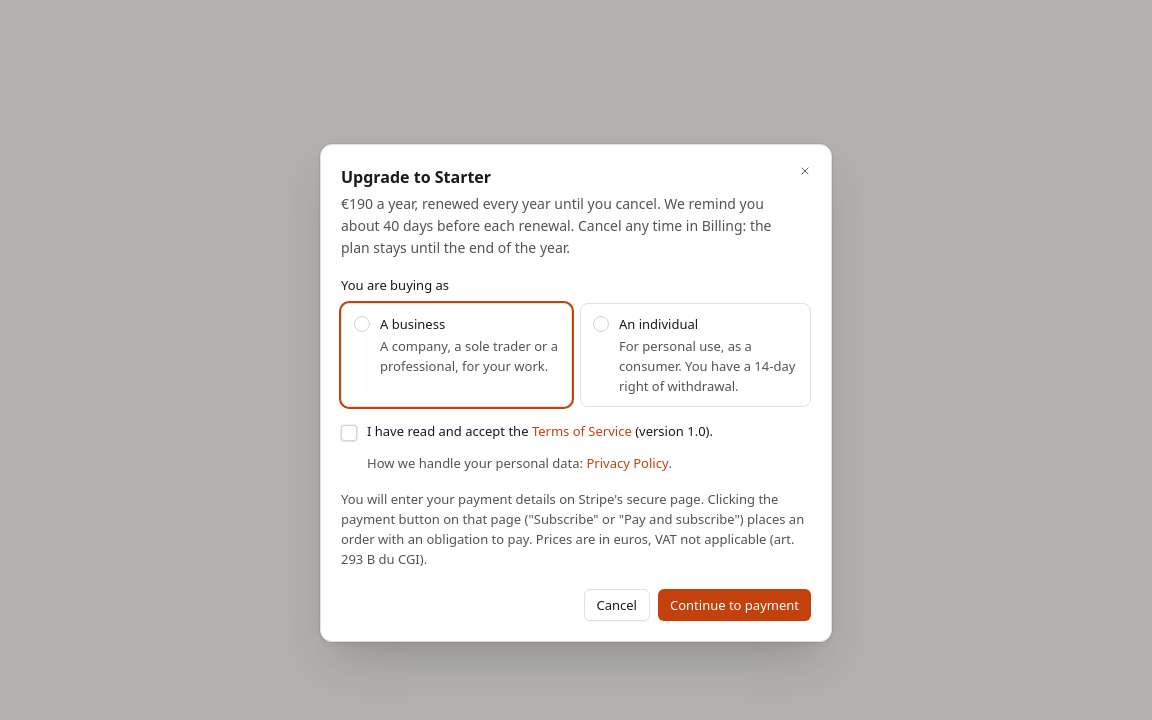
it: CheckoutDialog, consumers too (consumer sales on) › preselects nobody and asks for a choice
The image size is (1152, 720).
Expected: the radio button that starts with "A business" is not checked, [341,303,572,407]
Expected: the radio button that starts with "An individual" is not checked, [580,303,811,407]
Click the checkbox named "I have read and accept the". click: (349, 433)
box: [341,425,357,441]
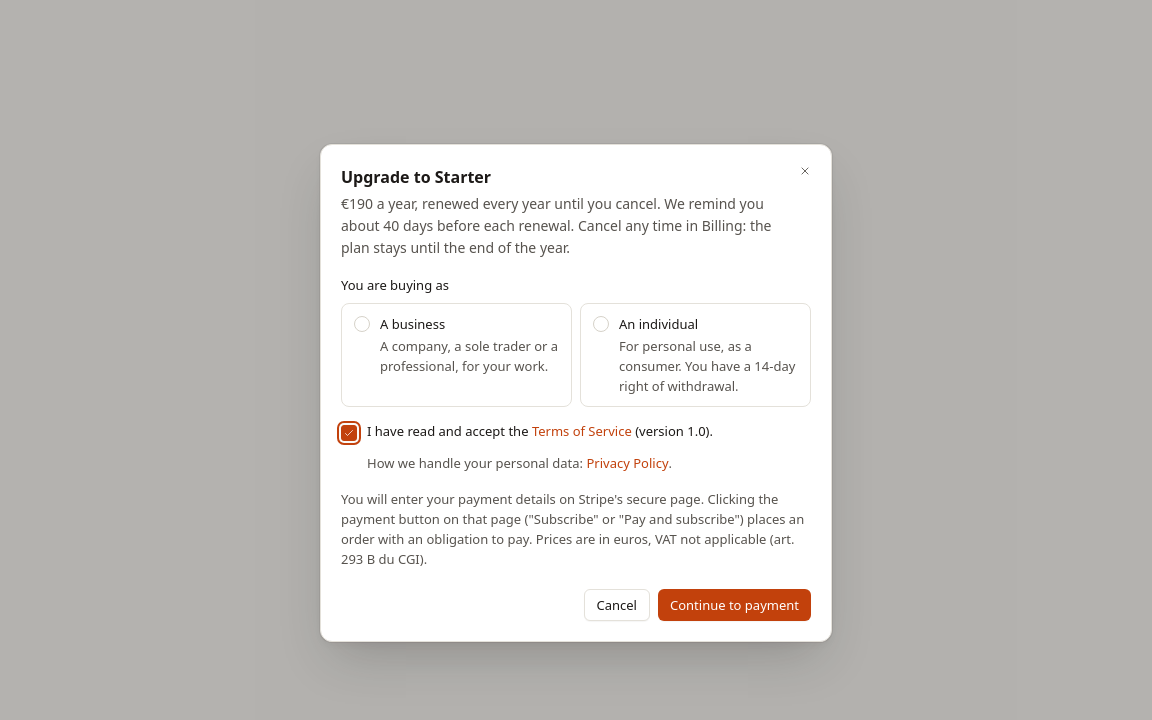
Click the button "Continue to payment". click: (734, 605)
box: [658,589,811,621]
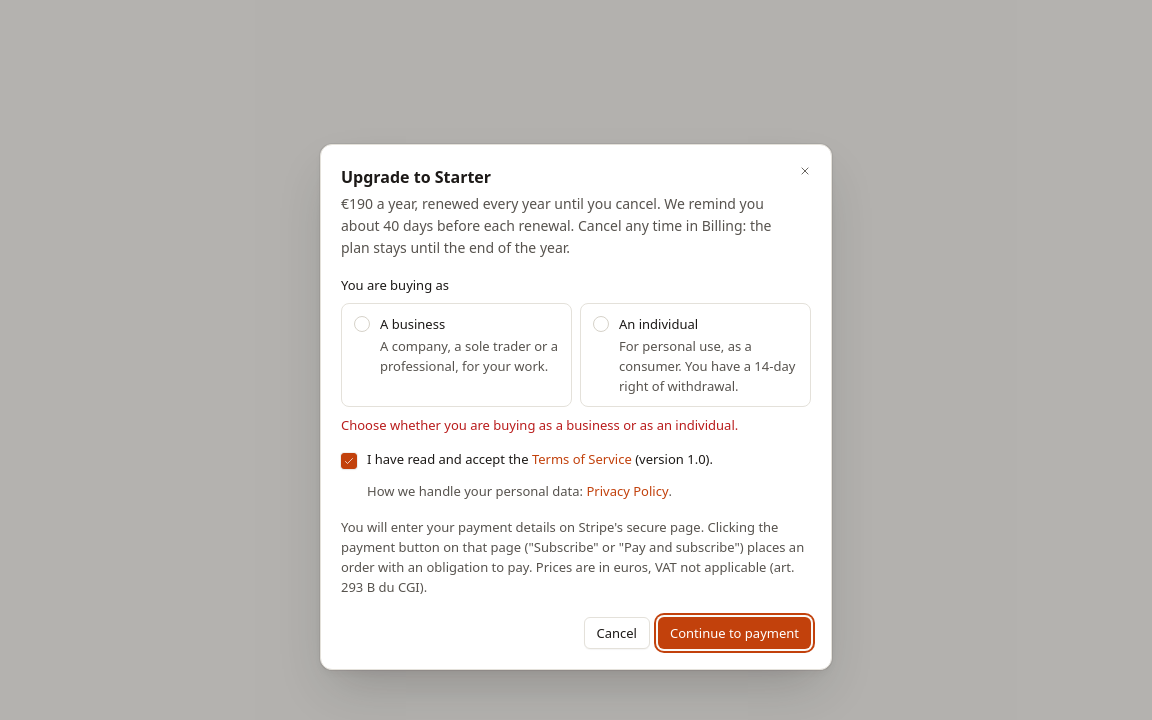
Now the text "Choose whether you are buying as a business or as an individual." is shown, box [341,416,738,434]
